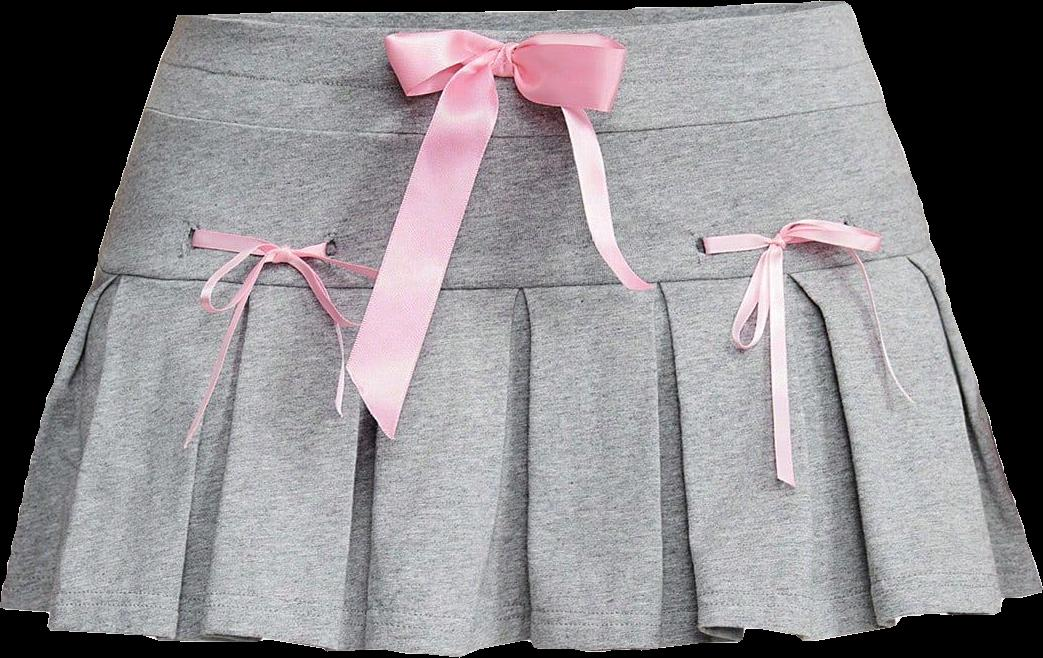Hemline: (0, 582, 1042, 657)
Waistline: (94, 94, 938, 292), (173, 0, 849, 38)
